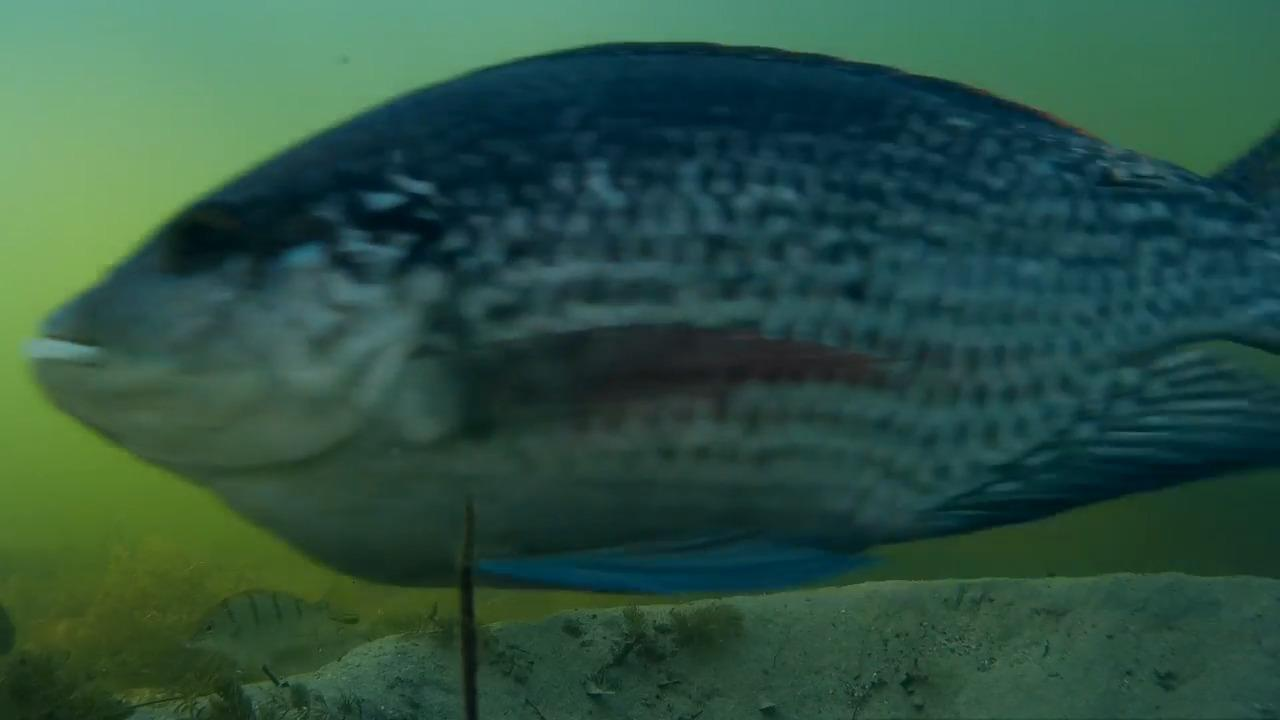Tilapia: (4, 39, 1280, 595), (178, 570, 373, 682)
